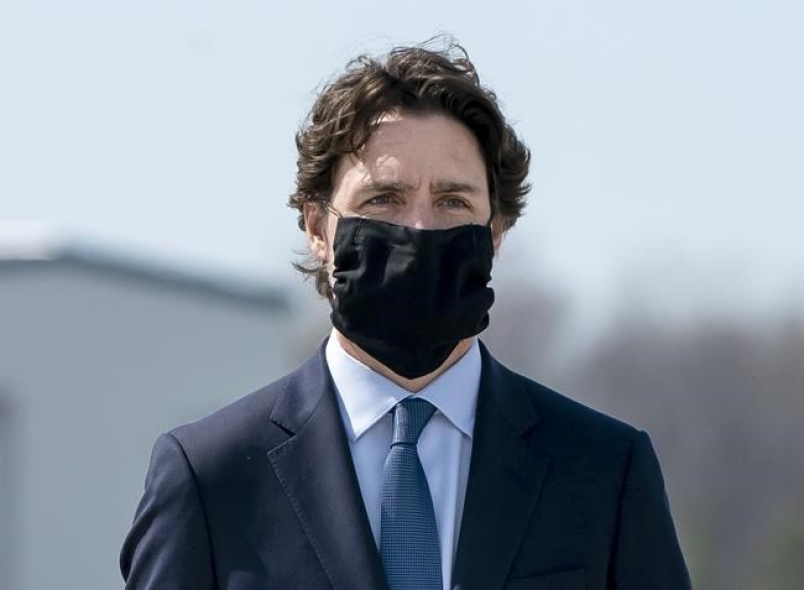with_mask: (281, 82, 563, 386)
